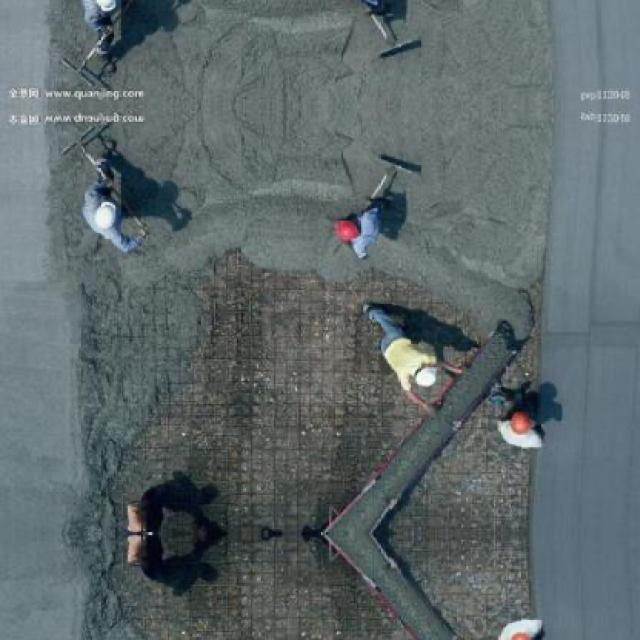con casco: (74, 178, 134, 252), (318, 202, 375, 255), (406, 344, 451, 406), (482, 412, 542, 447)
